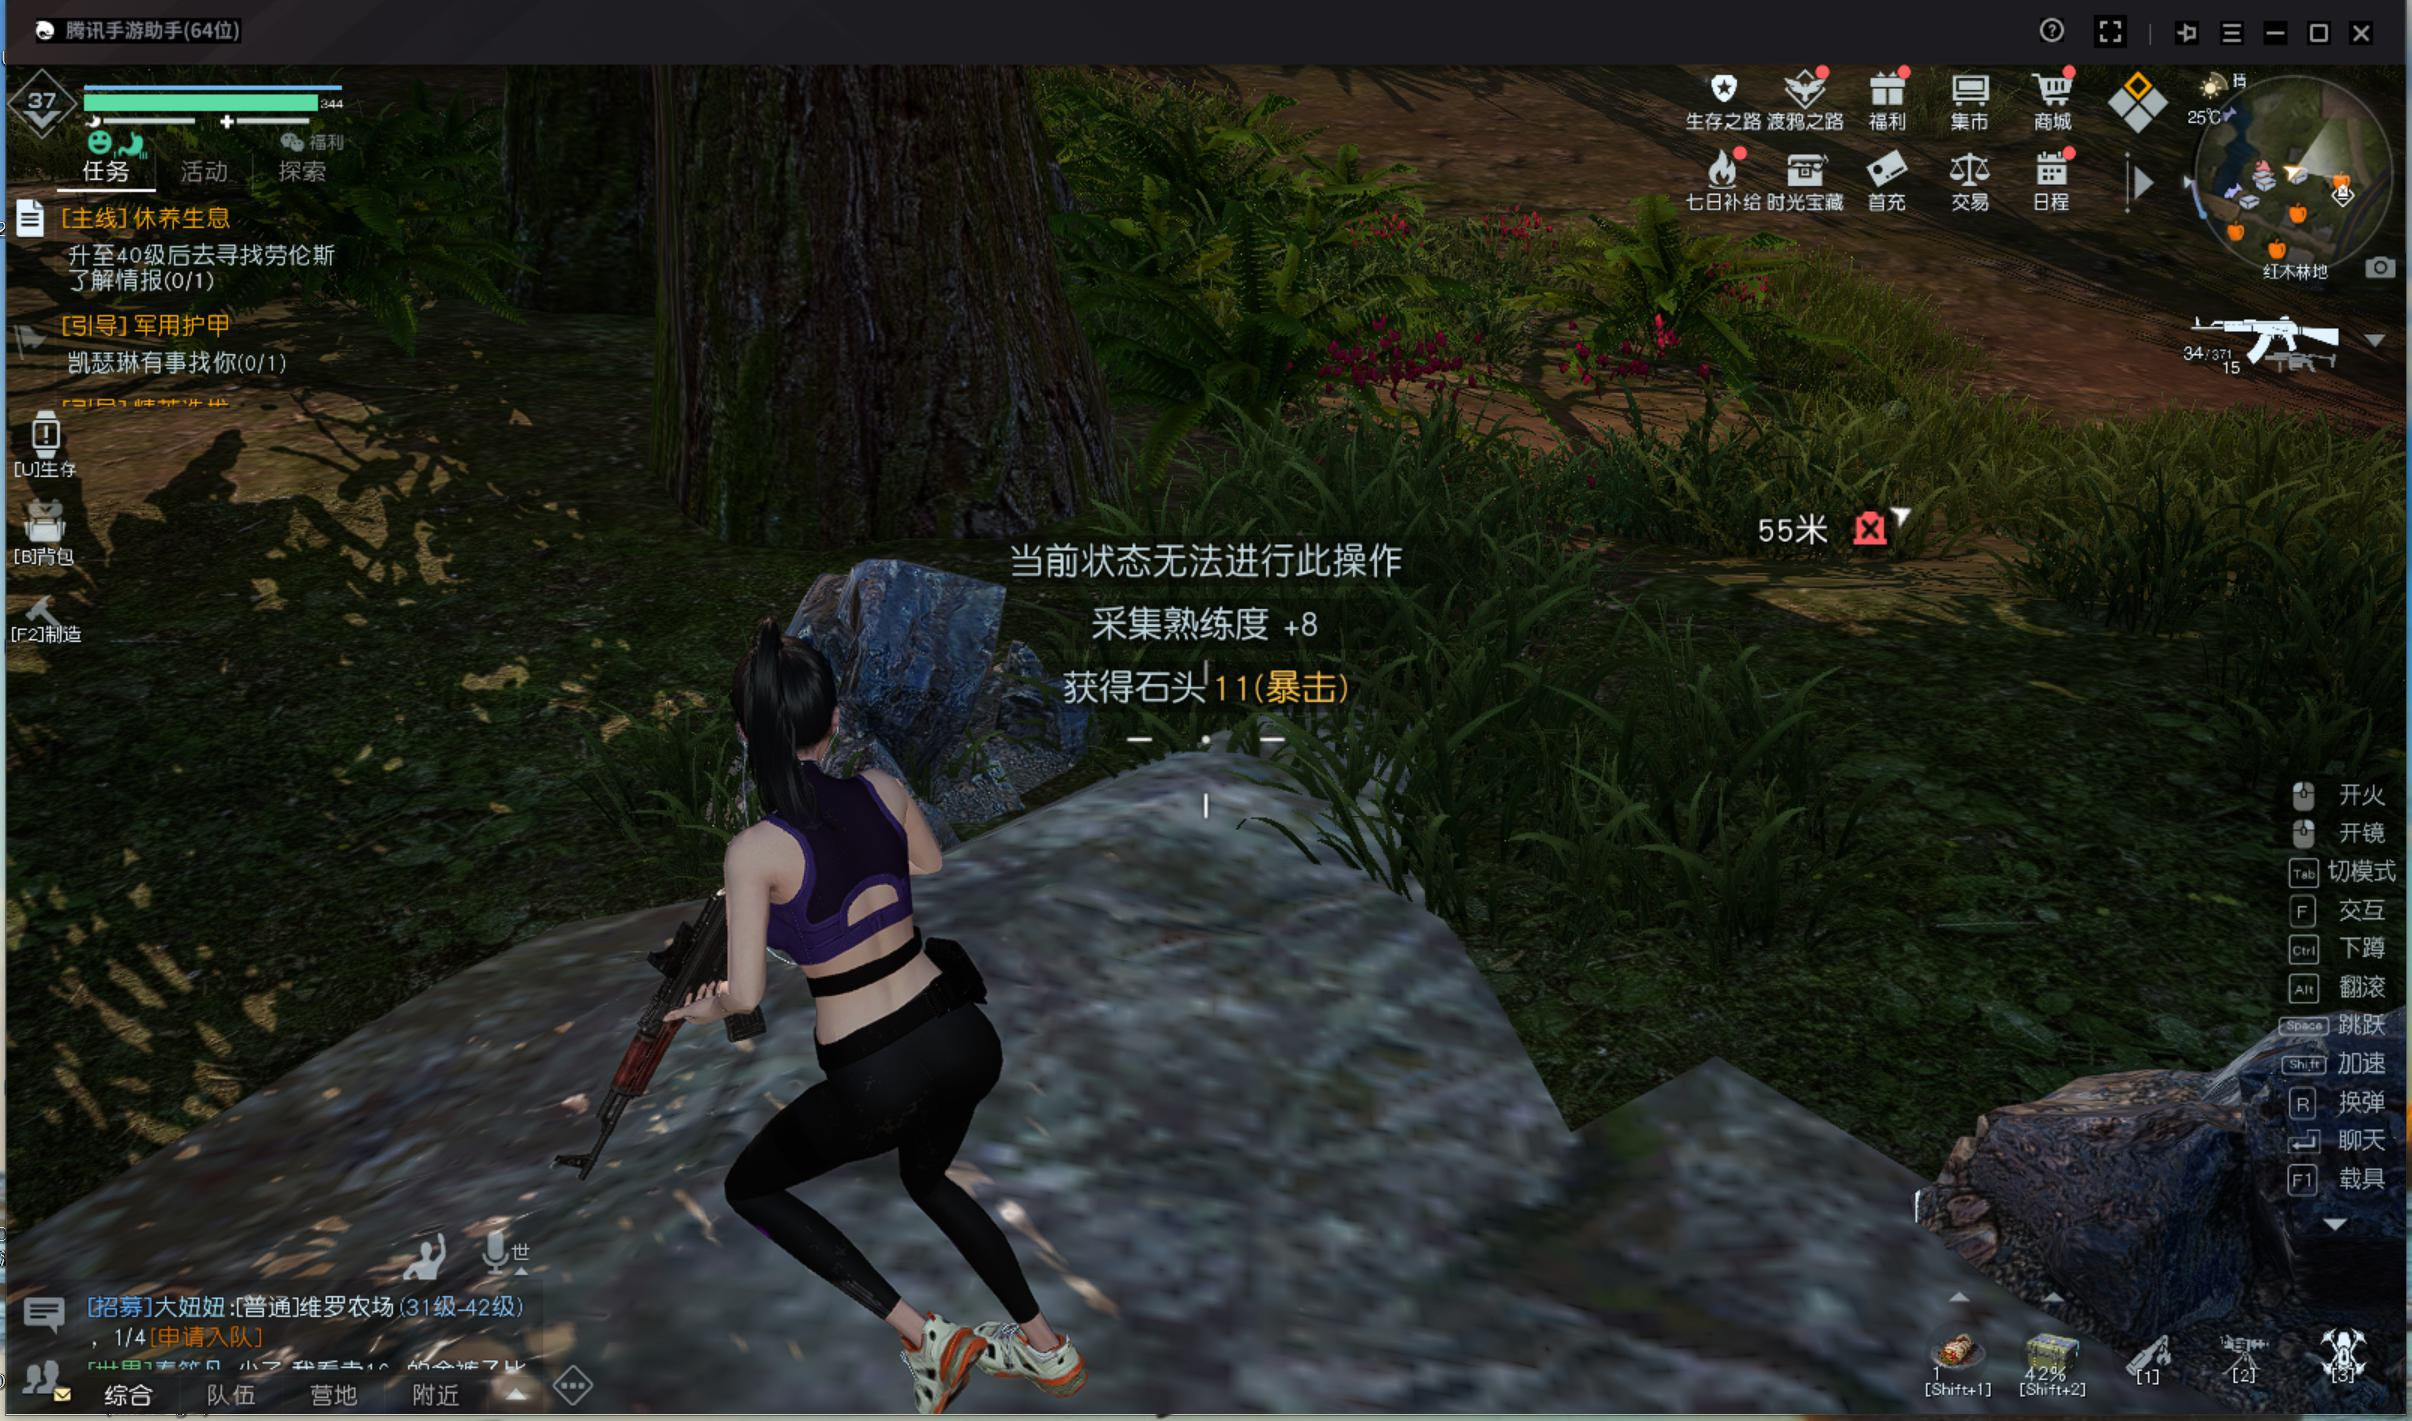stone: (1906, 946, 2380, 1308), (722, 497, 1093, 787)
